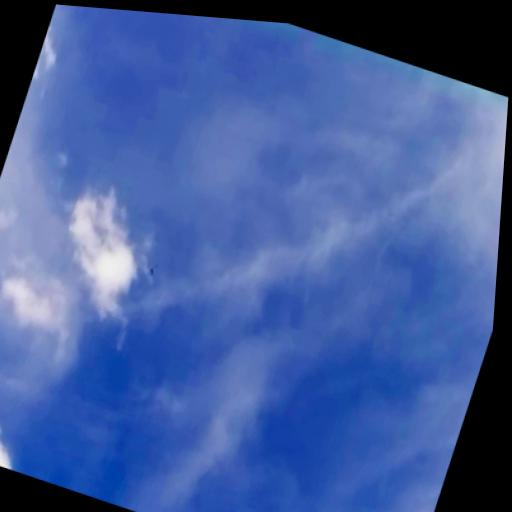drones: (141, 257, 164, 284)
